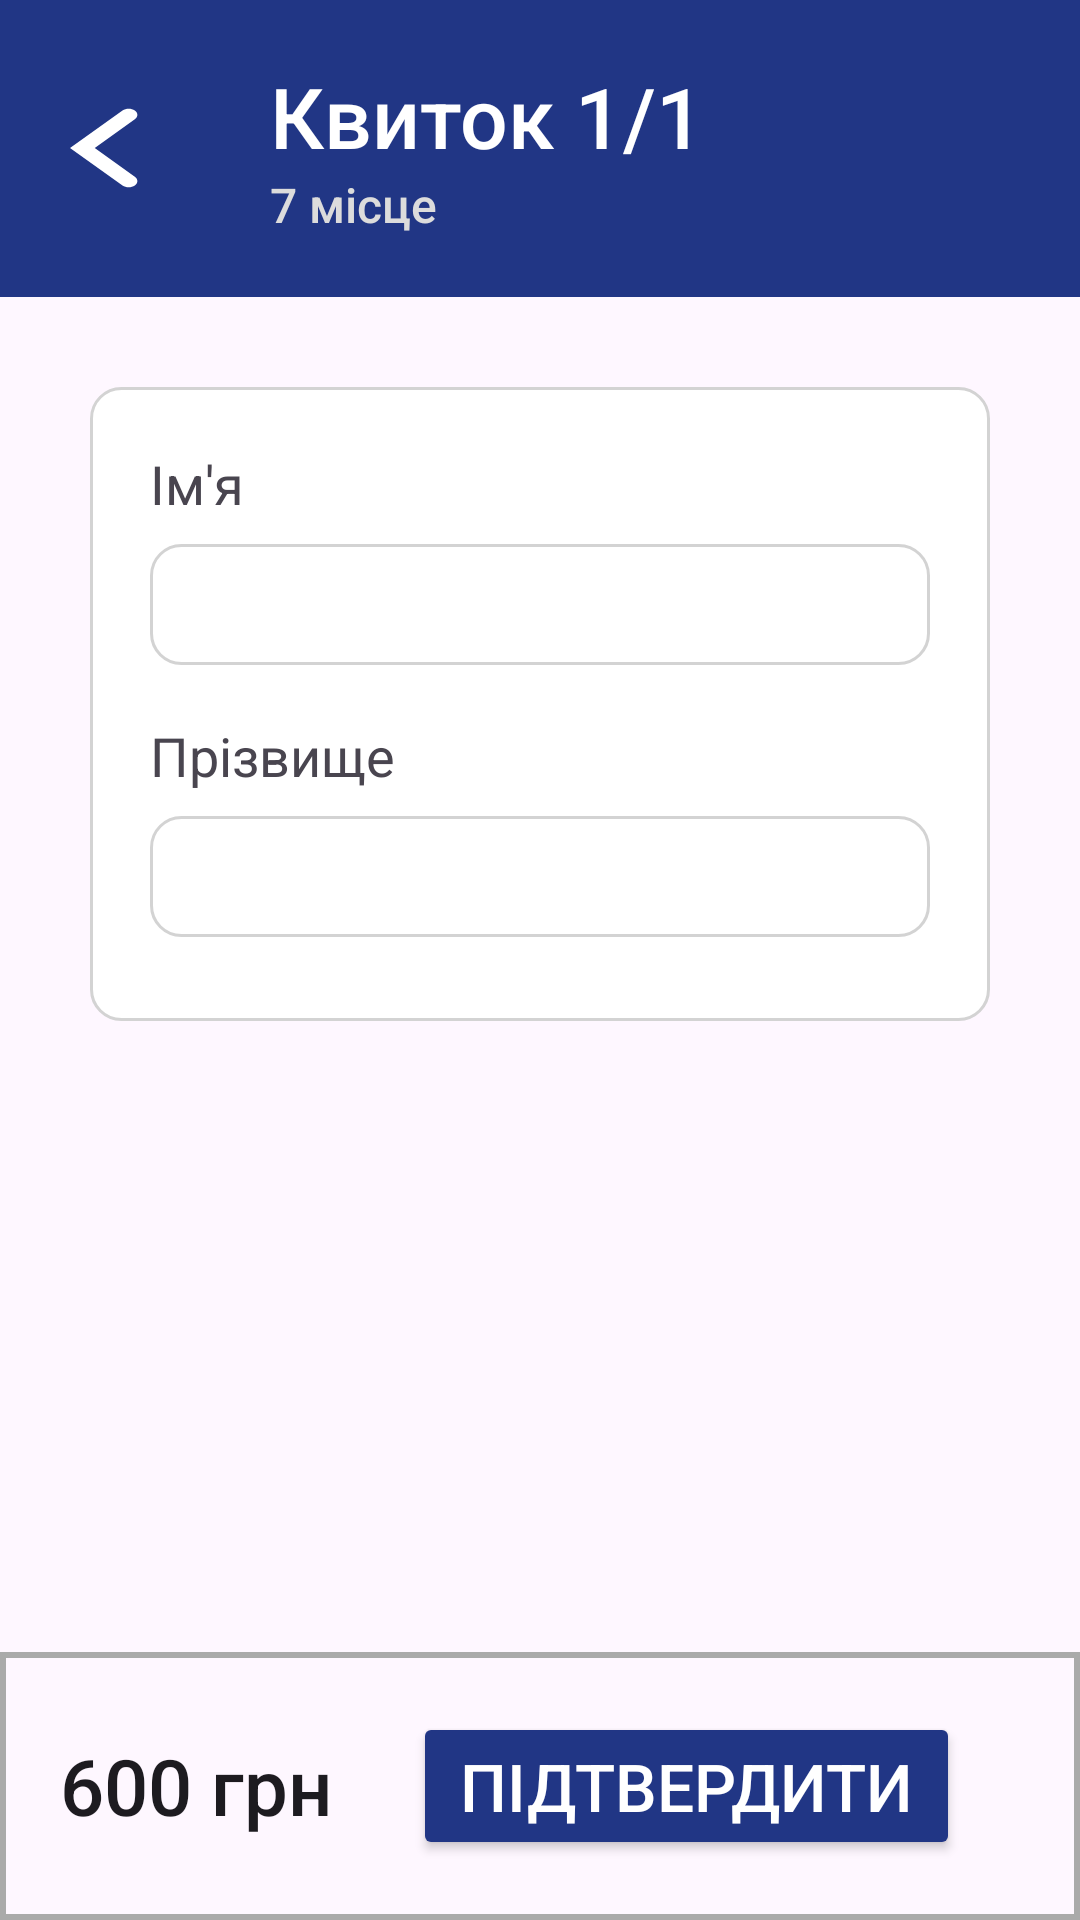

Named icons in this screenshot (1080x1920) and their bounding boxes, region(x1, y1, x2, y2):
arrow left: region(70, 108, 138, 188)
